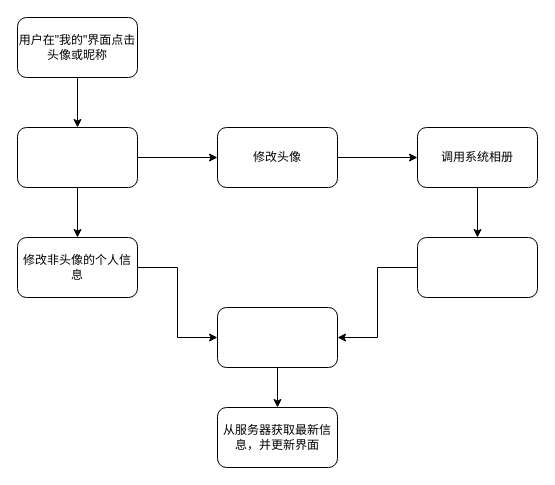
The diagram is 555 pixels wide and 485 high, and some of its shapes have lost their labels. Here are the shapes that lost their labels. From the top down, the centre of each, then its label:
At pixel 77 157: "进入个人信息界面".
At pixel 477 267: "选择图片并确认".
At pixel 277 337: "将信息传输至服务器".
